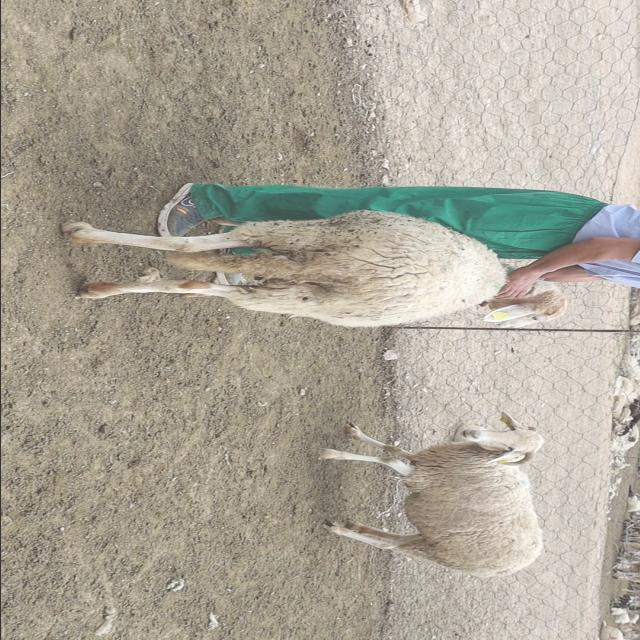Score_5: (61, 210, 507, 327)
